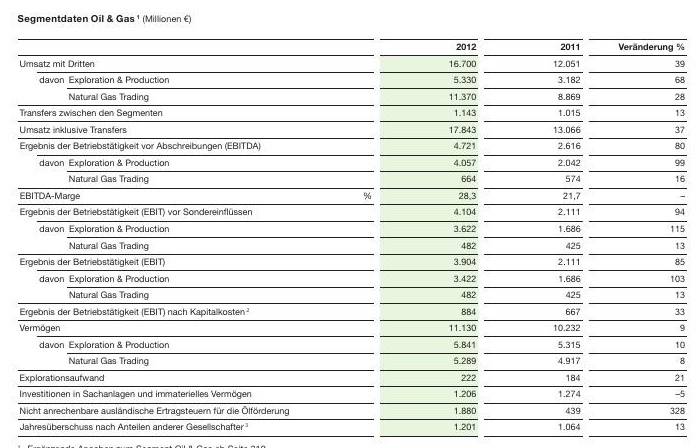table: (0, 0, 697, 448)
